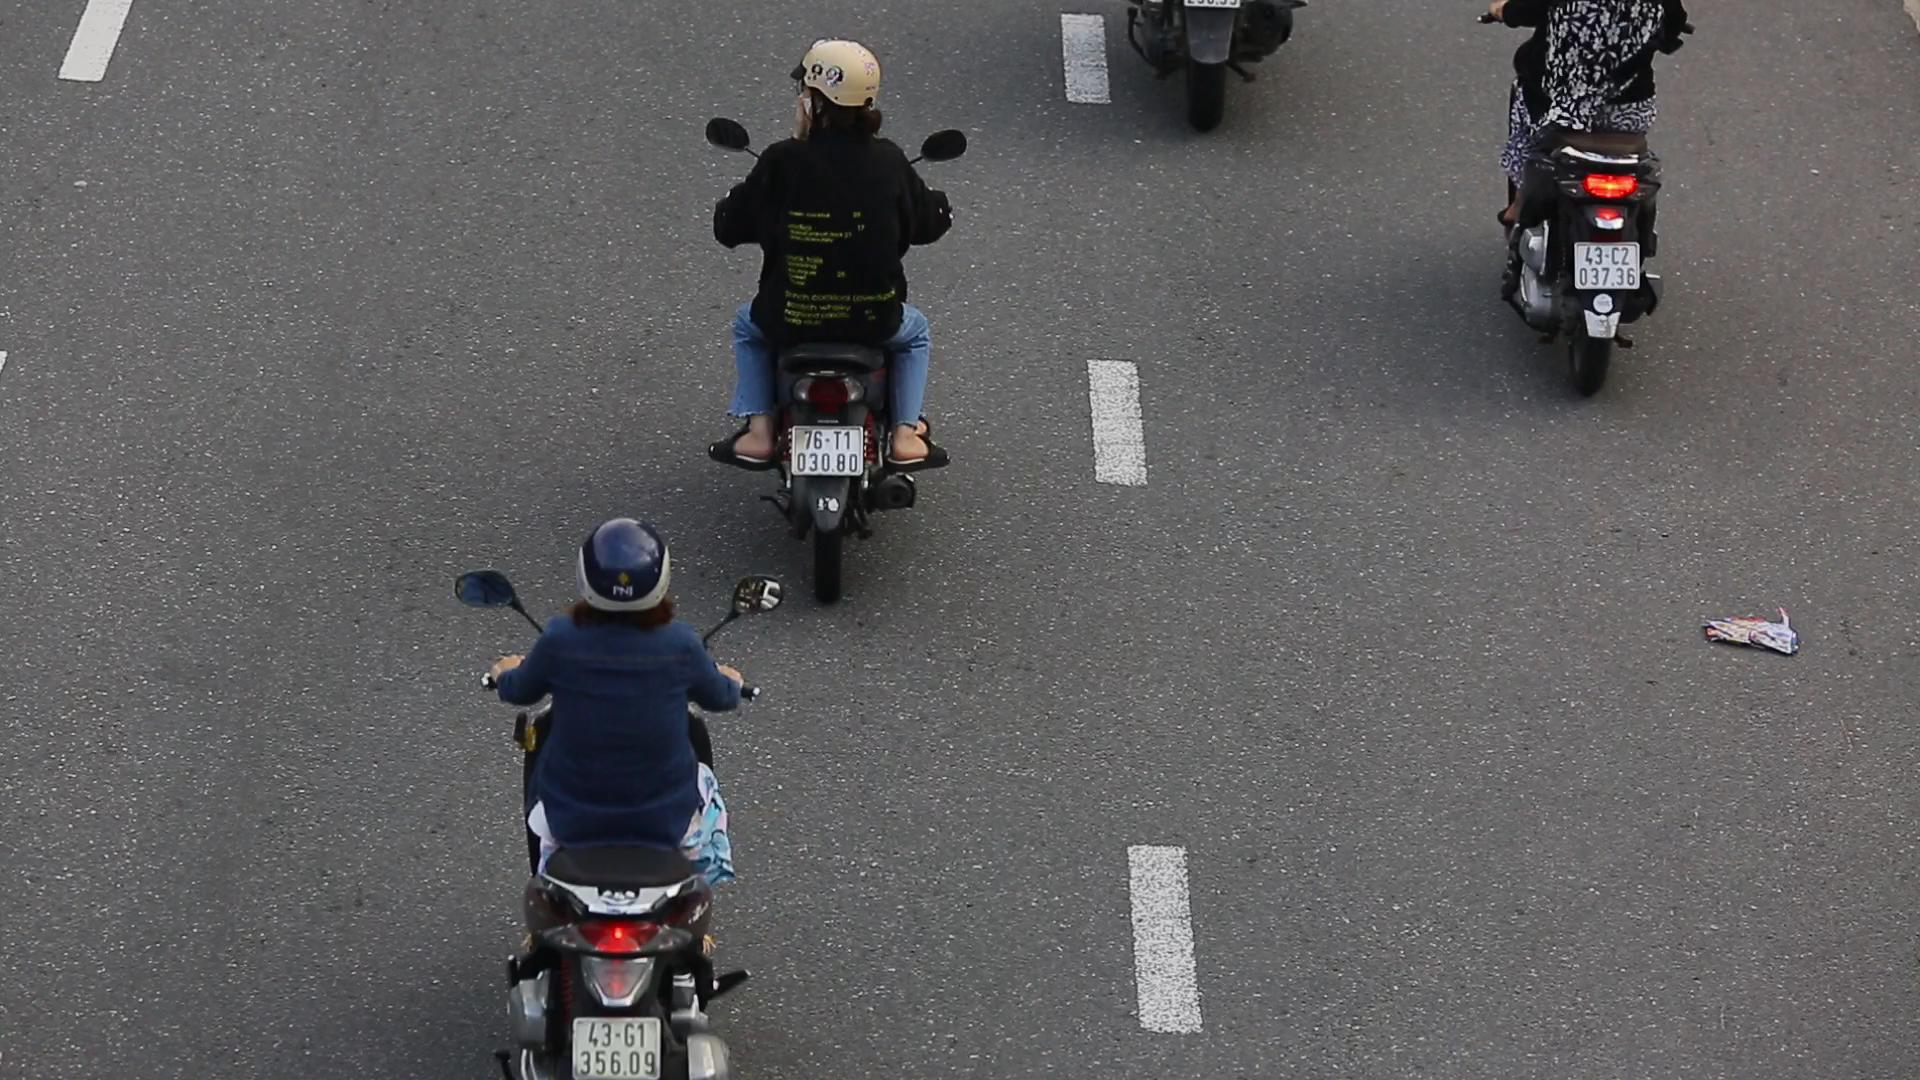motobike: (473, 509, 774, 1080), (698, 20, 981, 609)
